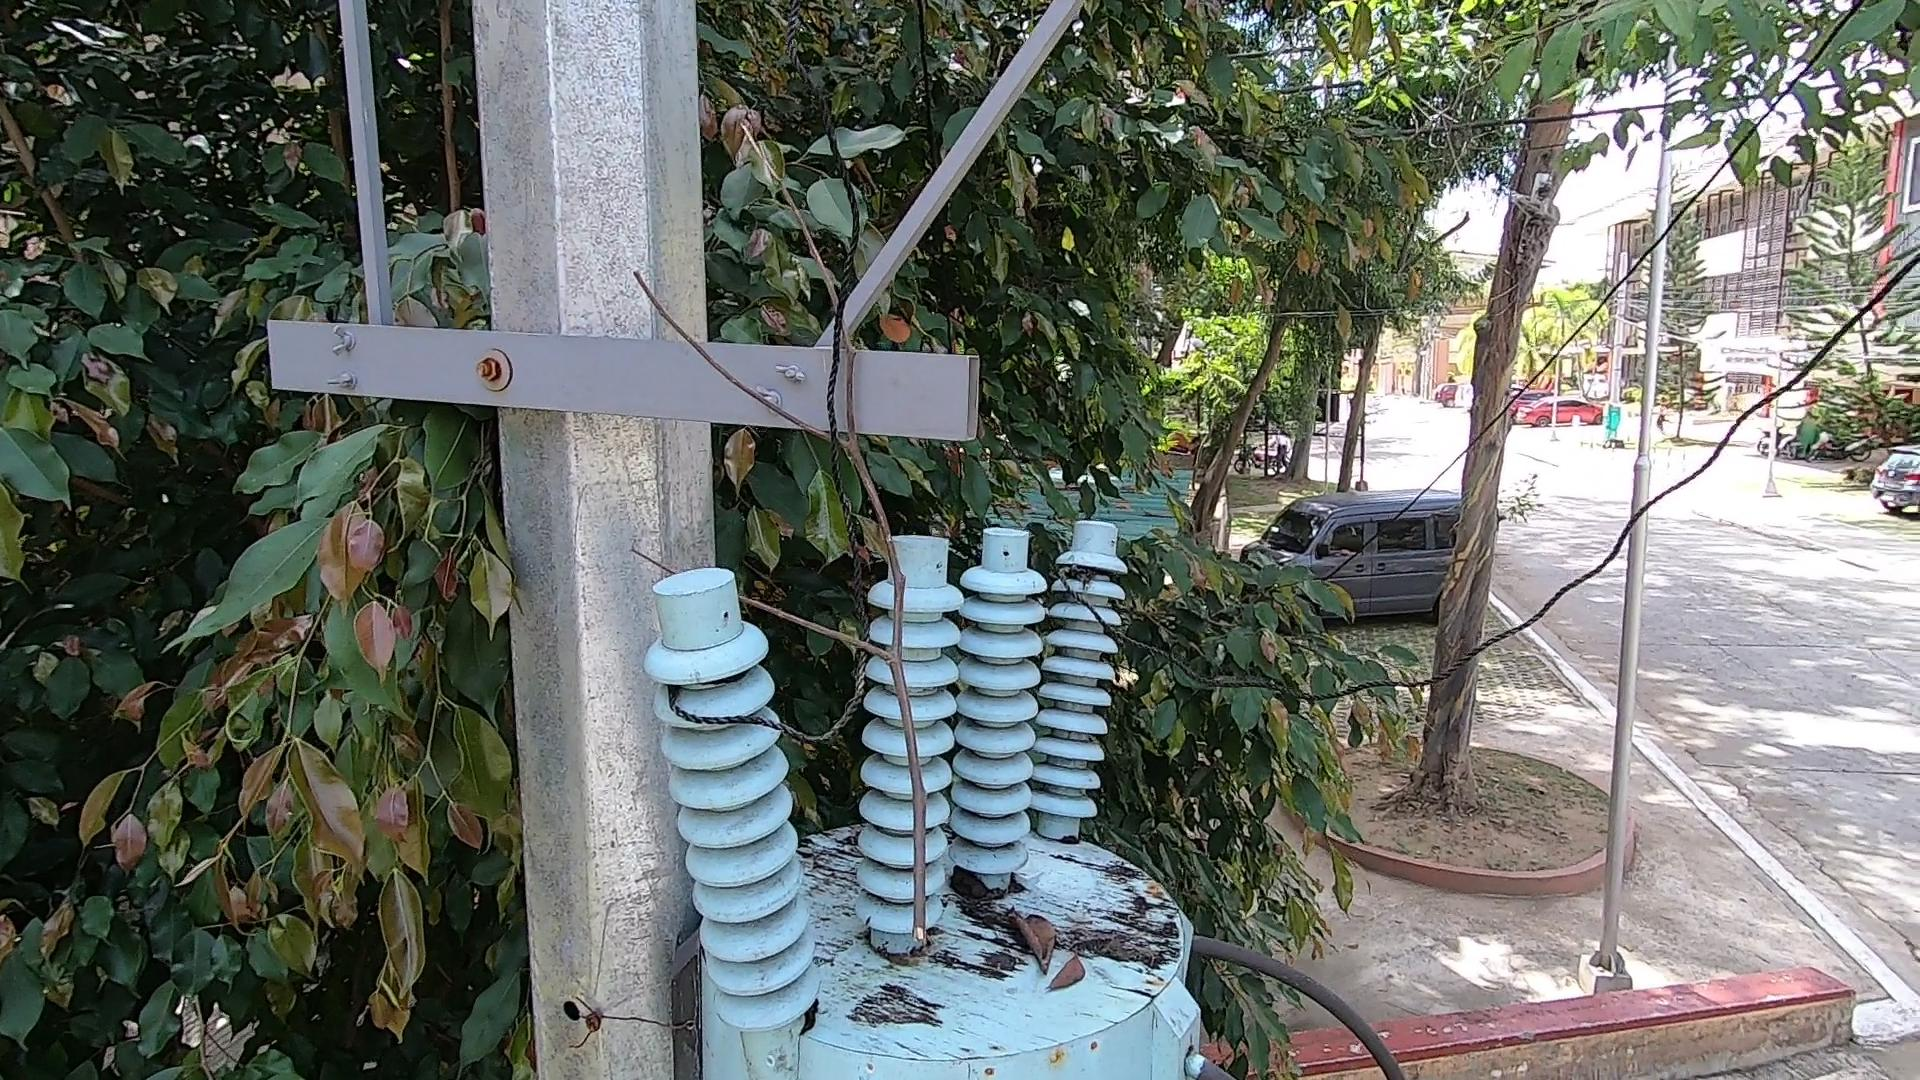leaf: (1001, 898, 1054, 967), (947, 864, 994, 905), (1054, 952, 1097, 996)
tree branch: (651, 150, 961, 943)
